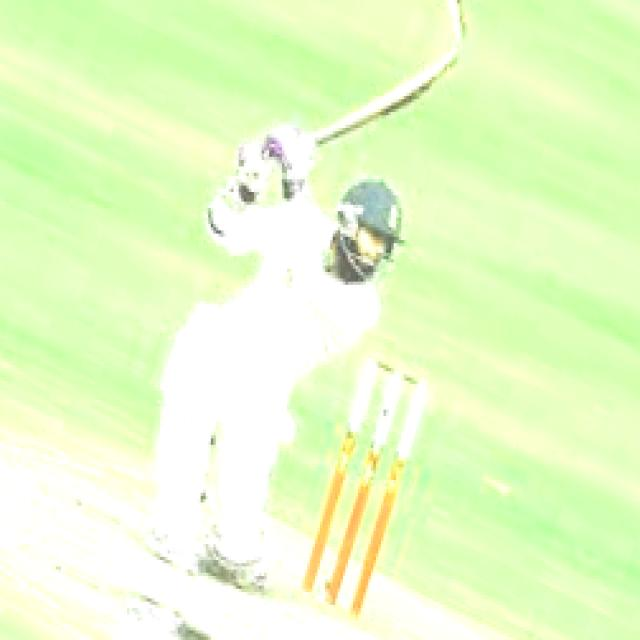toe: (413, 46, 459, 97)
